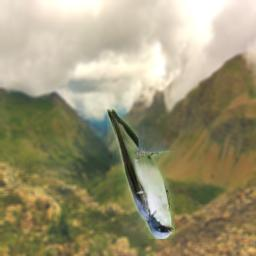Swallow: (107, 109, 175, 239)
